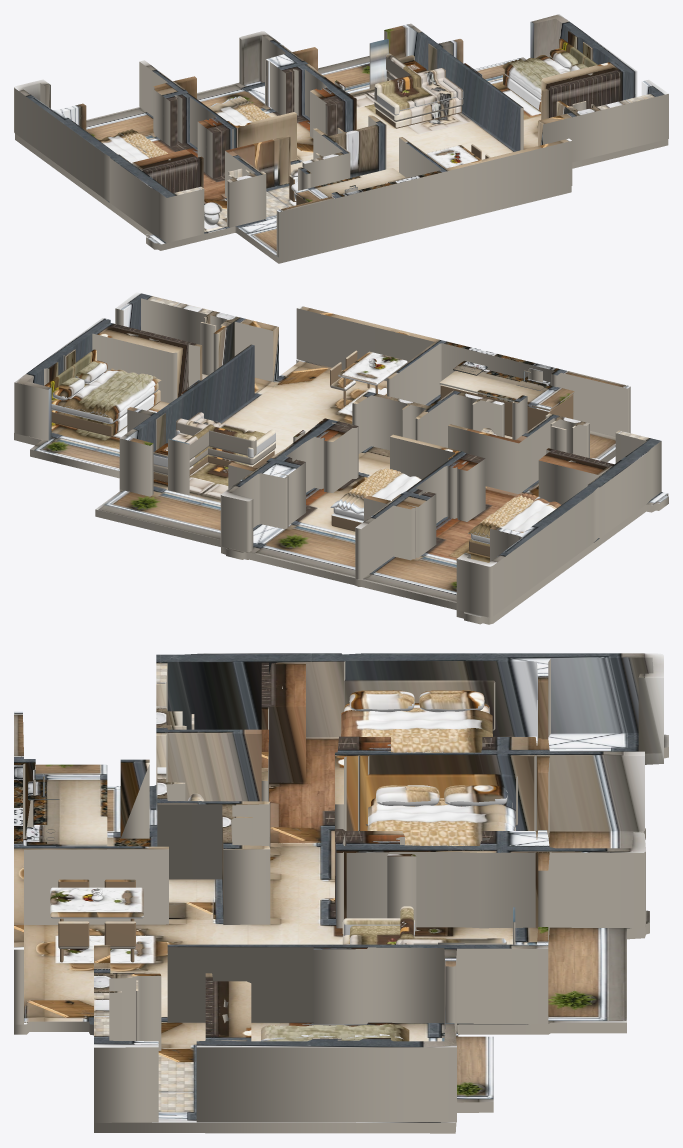
The model's file is p8-08-u01-2110-image-model.glb.
The picture shows the model from 3 angles, top to bottom: view 1: azimuth 30°, elevation 25°; view 2: azimuth 150°, elevation 25°; view 3: azimuth 270°, elevation 25°; orthographic projection. The views are drawn at different scales.
Parts seen in each view (by area): view 1: Partition walls, Apartment floor, Stone worktop, Draped bed linen.004, Upholstered sofa frame, Sofa back, Draped bed linen, Marble dining top, Draped bed linen.002, Sofa plinth, Sofa back.001, Draped bed linen.001 (+5 smaller); view 2: Partition walls, Apartment floor, Stone worktop, Draped bed linen.004, Sofa back, Kitchen cabinets, Marble dining top, Walnut upholstered base.002, Draped bed linen, Draped bed linen.002, Piped mattress.002, Draped bed linen.001 (+5 smaller); view 3: Partition walls, Apartment floor, Stone worktop, Draped bed linen, Draped bed linen.002, Marble dining top, Upholstered headboard.001, Upholstered headboard, Draped bed linen.005, Draped bed linen.001, Draped bed linen.003, Tailored pillow (+6 smaller).
Part boxes in pixels (x1,y1,x2,y2): Partition walls: [14, 14, 668, 257]; Apartment floor: [15, 56, 668, 263]; Stone worktop: [295, 168, 405, 202]; Draped bed linen.004: [502, 55, 568, 94]; Upholstered sofa frame: [374, 97, 463, 121]; Sofa back: [374, 68, 445, 100]; Draped bed linen: [98, 130, 167, 163]; Marble dining top: [427, 145, 480, 168]; Draped bed linen.002: [207, 97, 271, 125]; Sofa plinth: [375, 106, 461, 128]; Sofa back.001: [386, 53, 422, 87]; Draped bed linen.001: [117, 129, 165, 157]; Partition walls: [14, 292, 661, 617]; Apartment floor: [14, 359, 668, 624]; Stone worktop: [439, 369, 574, 410]; Draped bed linen.004: [62, 368, 161, 418]; Sofa back: [176, 418, 256, 455]; Kitchen cabinets: [440, 384, 573, 436]; Marble dining top: [338, 351, 407, 385]; Walnut upholstered base.002: [51, 390, 160, 436]; Draped bed linen: [468, 494, 560, 536]; Draped bed linen.002: [330, 469, 421, 513]; Piped mattress.002: [51, 370, 158, 423]; Draped bed linen.001: [473, 493, 540, 536]; Partition walls: [14, 653, 663, 1122]; Apartment floor: [14, 733, 668, 1133]; Stone worktop: [33, 764, 107, 846]; Draped bed linen: [341, 710, 492, 752]; Draped bed linen.002: [368, 804, 515, 845]; Marble dining top: [50, 887, 143, 918]; Upholstered headboard.001: [365, 774, 517, 825]; Upholstered headboard: [344, 679, 495, 730]; Draped bed linen.005: [261, 1024, 409, 1041]; Draped bed linen.001: [341, 728, 492, 742]; Draped bed linen.003: [367, 821, 515, 836]; Tailored pillow: [349, 690, 414, 712].
Size of the model in its own units: 13.02 by 1.3 by 9.
14 materials, 3 textured.
